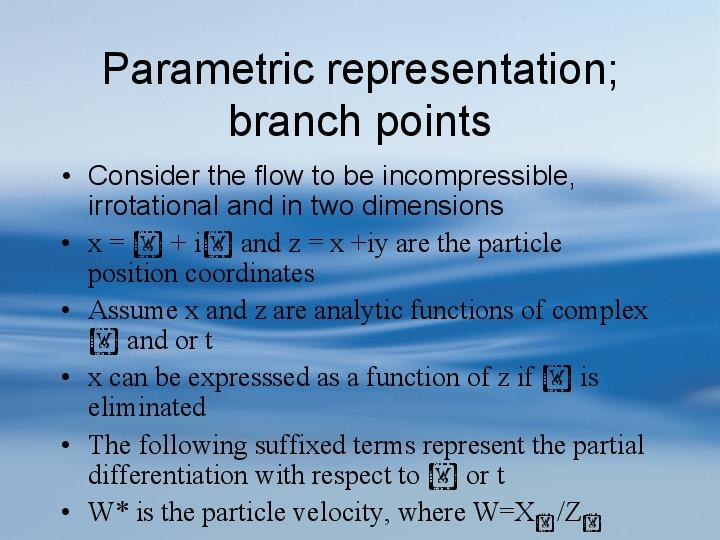paragraph: (49, 153, 670, 536)
title: (81, 38, 628, 145)
